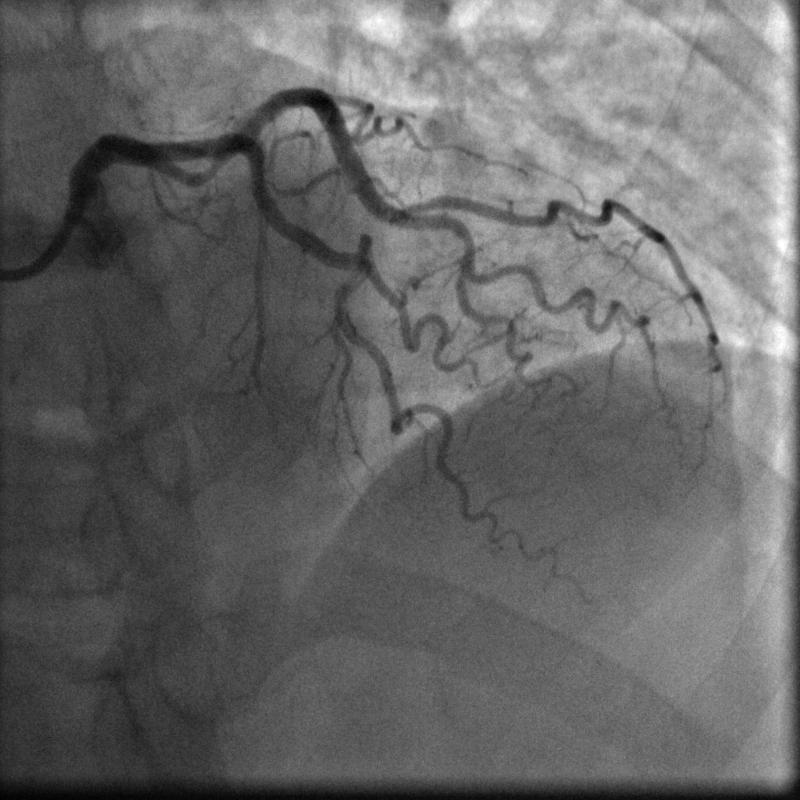Stenosis: (192, 150, 228, 183)
